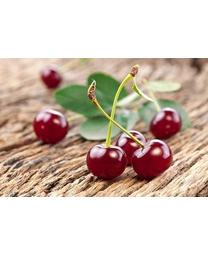cherry: (131, 139, 172, 178), (86, 143, 127, 180), (32, 109, 69, 144), (115, 131, 146, 165), (150, 108, 182, 139), (40, 68, 61, 88)
